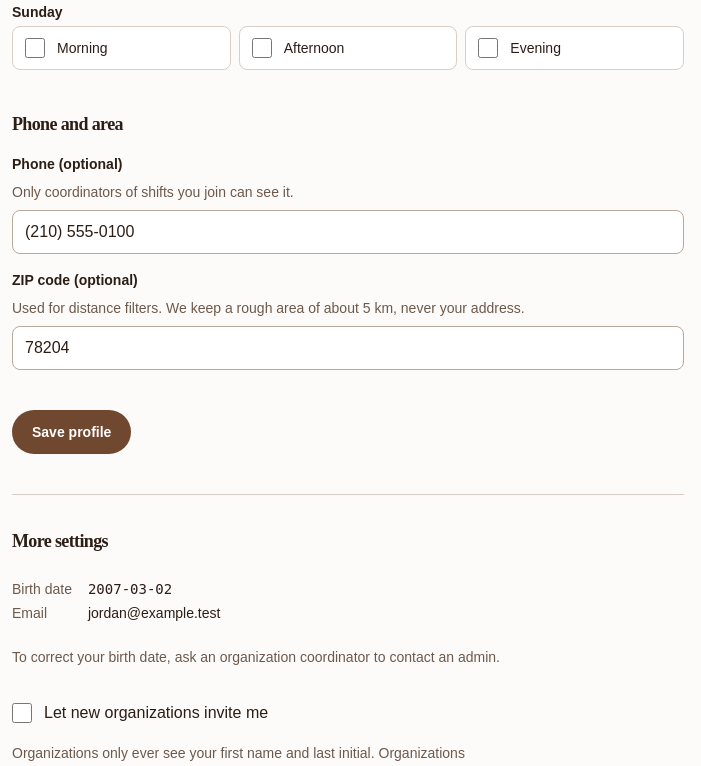
Test: ProfilePage › explains a ZIP outside the bundled area and says when nothing changed
The image size is (701, 766).
(page scrolled)
Click the button "Save profile". click: (72,432)
box: [12,410,131,454]
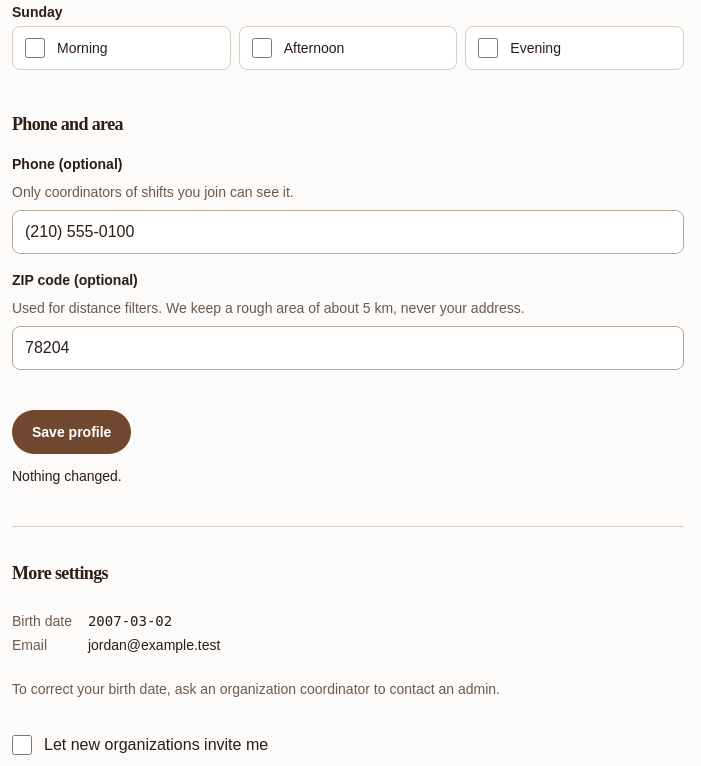
Check: the text "Nothing changed." is shown, box [12,468,122,484]
Replace the text in the field labelled "ZIP code (optional)" with "10001". click: (348,348)
box: [12,326,684,370]
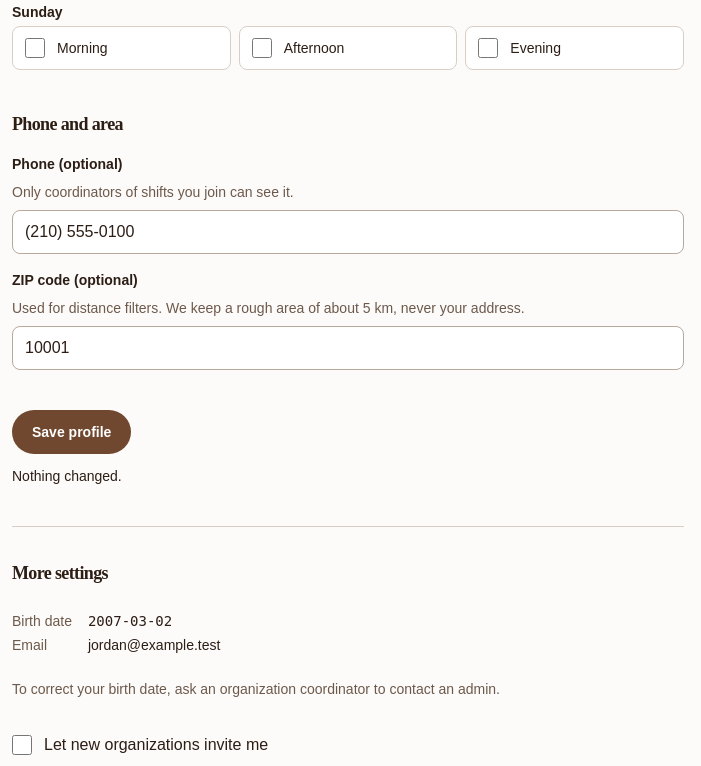
Click the button "Save profile". click: (72,432)
box: [12,410,131,454]
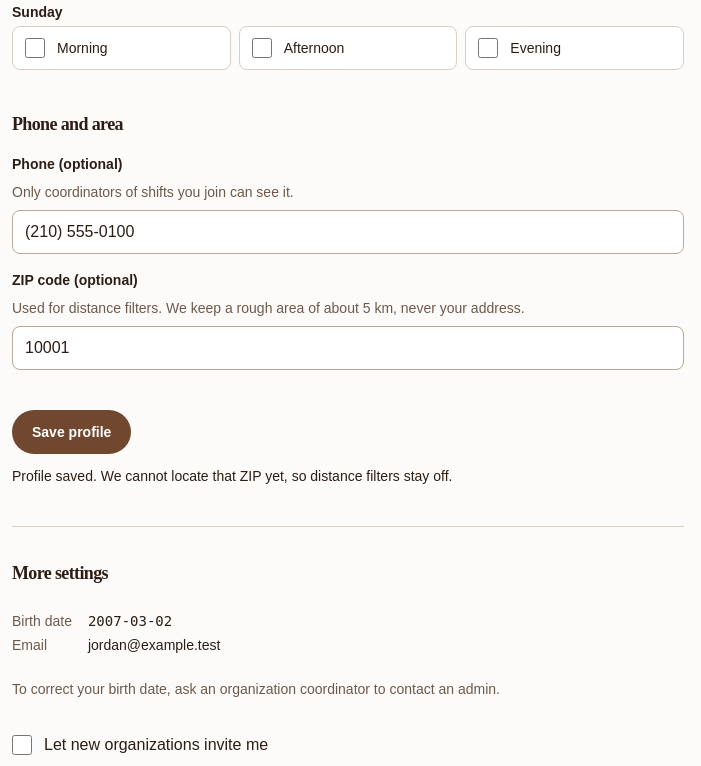
Check: the text "Profile saved. We cannot locate that ZIP yet, so distance filters stay off." is shown, box [12,468,452,484]
